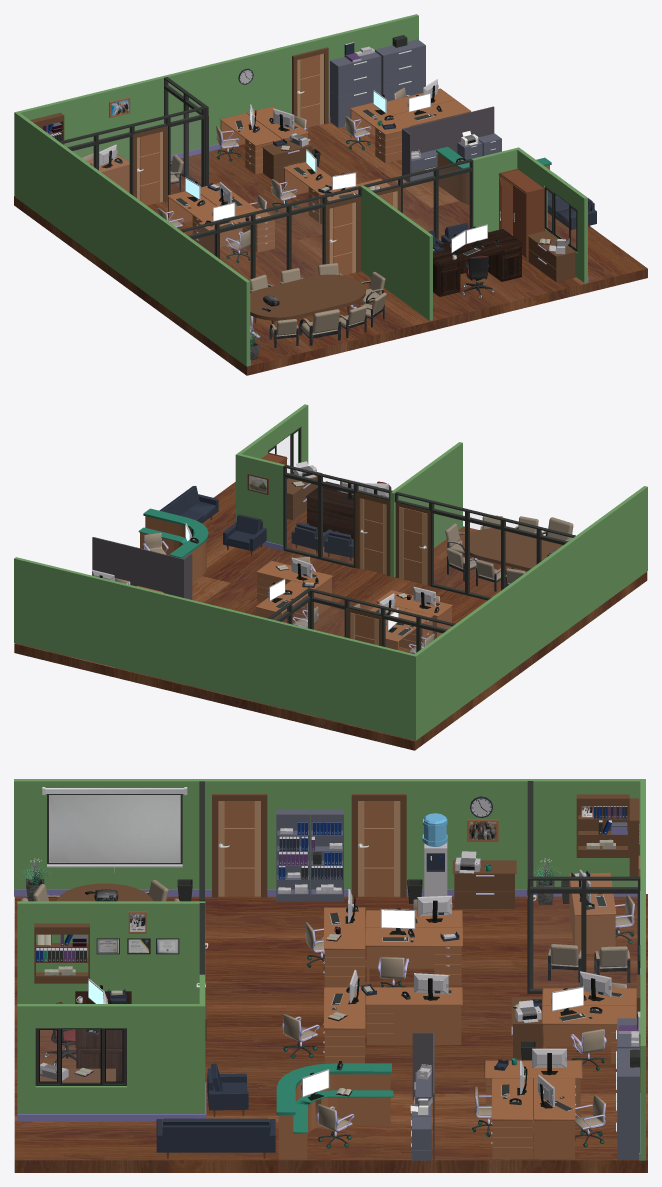
Rendered from isometric-office-web.glb.
3 renders of one model, top to bottom at view 1: azimuth 30°, elevation 25°; view 2: azimuth 150°, elevation 25°; view 3: azimuth 270°, elevation 25°, orthographic. The views are drawn at different scales.
Parts seen in each view (by area): view 1: Object_4, Object_8, Object_30, Object_1140, Object_432, Object_793, Object_78, Object_932, Object_1074, Object_1071; view 2: Object_4, Object_8, Object_30, Object_1140; view 3: Object_4, Object_8, Object_30, Object_1043, Object_1074, Object_1140, Object_432, Object_78, Object_932.
Boxes of the visible parts, x1,y1,x2,y2 form: Object_4: (14,14,596,366); Object_8: (14,122,647,375); Object_30: (30,39,577,282); Object_1140: (433,229,523,296); Object_432: (185,91,487,251); Object_793: (171,112,200,184); Object_78: (93,87,546,337); Object_932: (170,164,384,347); Object_1074: (547,191,575,247); Object_1071: (461,256,494,298); Object_4: (14,404,647,740); Object_8: (14,482,647,750); Object_30: (268,427,430,646); Object_1140: (305,481,389,538); Object_4: (14,779,645,1160); Object_8: (14,894,647,1172); Object_30: (34,794,640,1160); Object_1043: (42,787,187,894); Object_1074: (40,1029,121,1082); Object_1140: (75,991,131,1081); Object_432: (88,910,583,1096); Object_78: (282,875,634,1143); Object_932: (48,893,630,982).
Size of the model in its own units: 10.1 by 2.25 by 10.12.
Materials: 23 (21 with a texture image).
